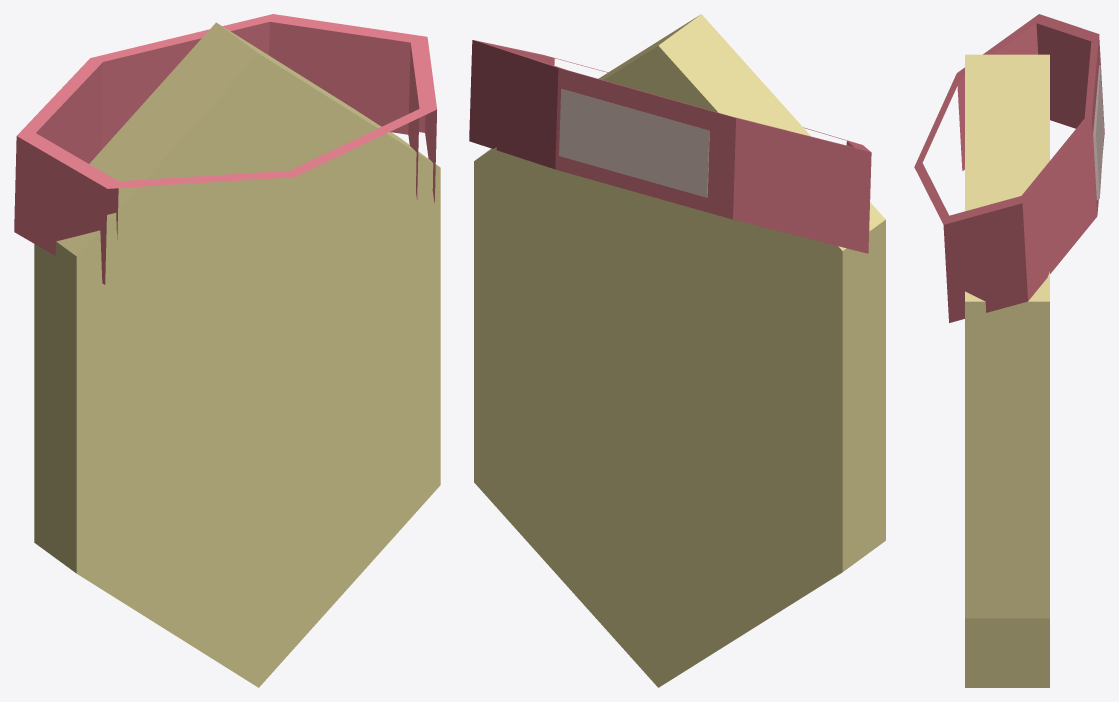
Rendered from BoenahaPickupCoin.fbx.
3 views of the same model, side by side, from view 1: azimuth 30°, elevation 25°; view 2: azimuth 150°, elevation 25°; view 3: azimuth 270°, elevation 25° (orthographic).
Parts seen in each view (by area): view 1: Cylinder, Cylinder.004; view 2: Cylinder, Cylinder.004; view 3: Cylinder, Cylinder.004.
Part boxes in pixels (x1=…): Cylinder: x1=34, y1=22, x2=440, y2=687; Cylinder.004: x1=14, y1=14, x2=437, y2=284; Cylinder: x1=474, y1=14, x2=885, y2=687; Cylinder.004: x1=469, y1=40, x2=871, y2=253; Cylinder: x1=965, y1=54, x2=1049, y2=687; Cylinder.004: x1=914, y1=14, x2=1104, y2=322.
Bounding box in the file's own units: 116 × 174 × 47.54.
